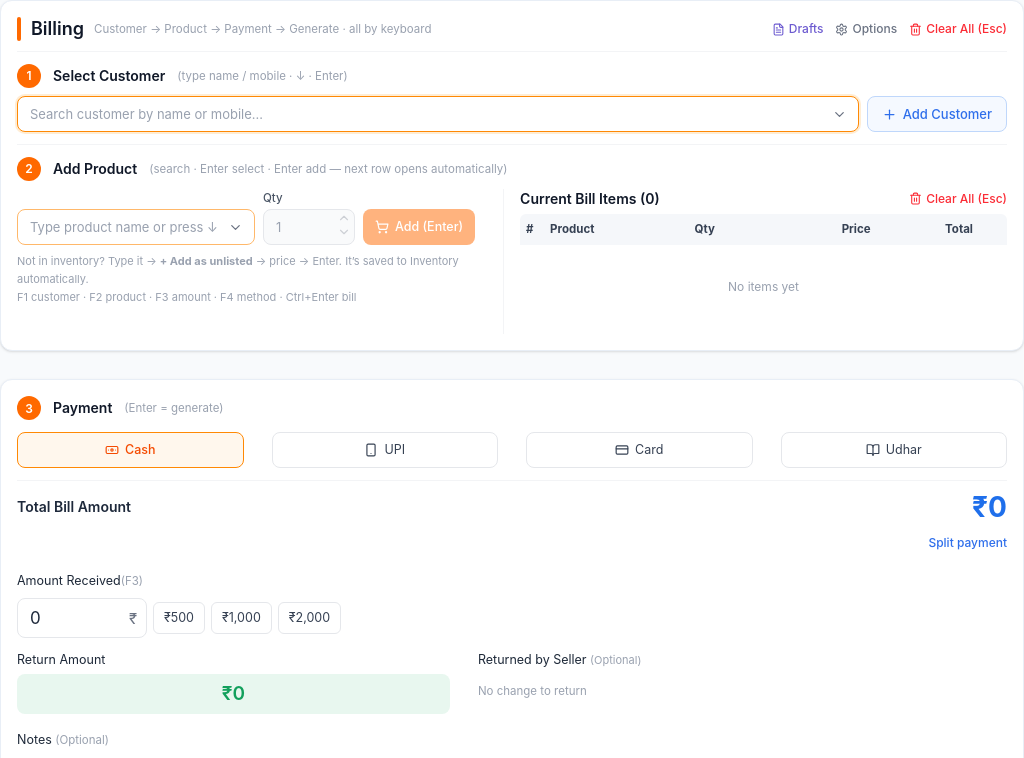
Test: product search stays editable after a selection › 1 · searching and selecting with Enter selects the product (quantity opens up)
In the field labelled "product": (136, 227) left=17, top=209, right=255, bottom=245, type "Sug"
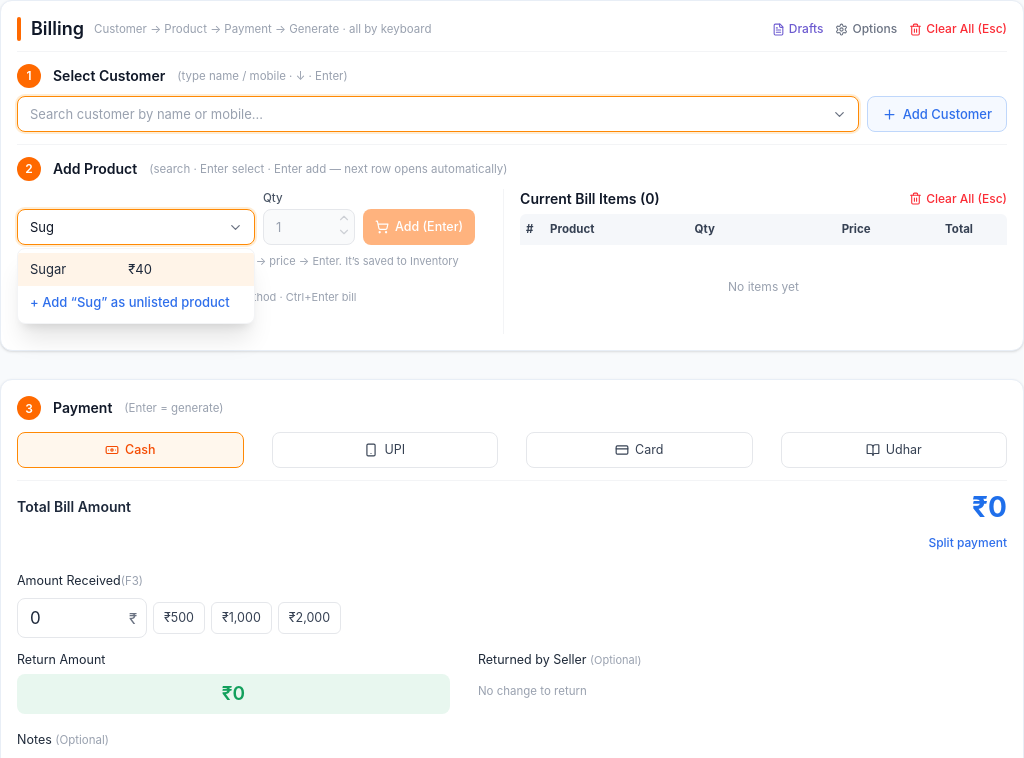
Press Enter in the field named "product", box left=17, top=209, right=255, bottom=245
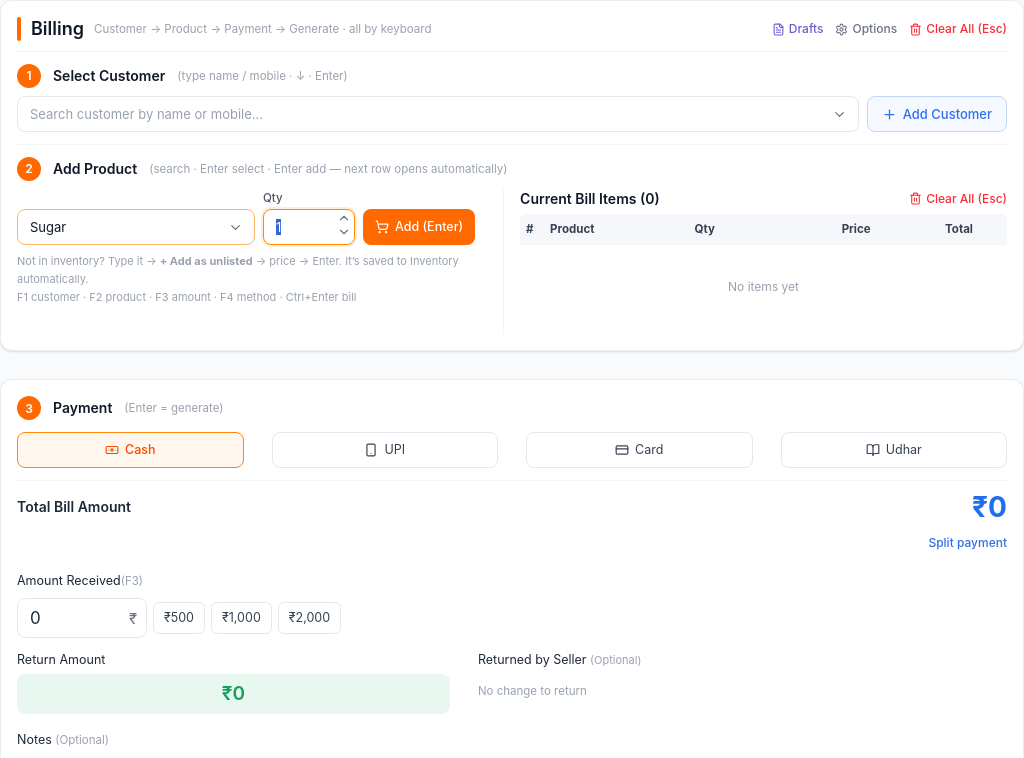
expect the field named "product" holds "Sugar": met, box left=17, top=209, right=255, bottom=245
expect the field named "Quantity" is enabled: met, box left=263, top=209, right=355, bottom=245
